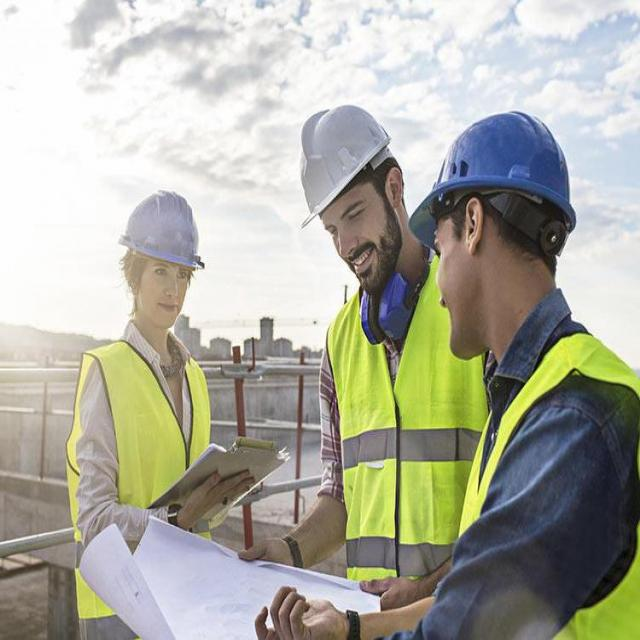Reflective-Jacket: (325, 265, 481, 640), (464, 328, 638, 640), (63, 335, 218, 634)
Safety-Helmet: (410, 106, 581, 246), (295, 98, 396, 217), (114, 183, 206, 274)
